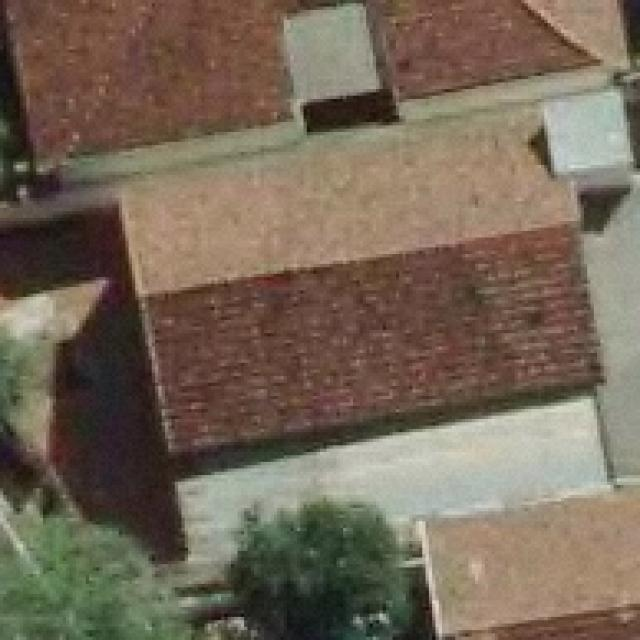trees: (235, 509, 410, 640), (1, 526, 190, 640), (1, 339, 21, 445), (1, 113, 14, 194), (1, 425, 4, 431)
